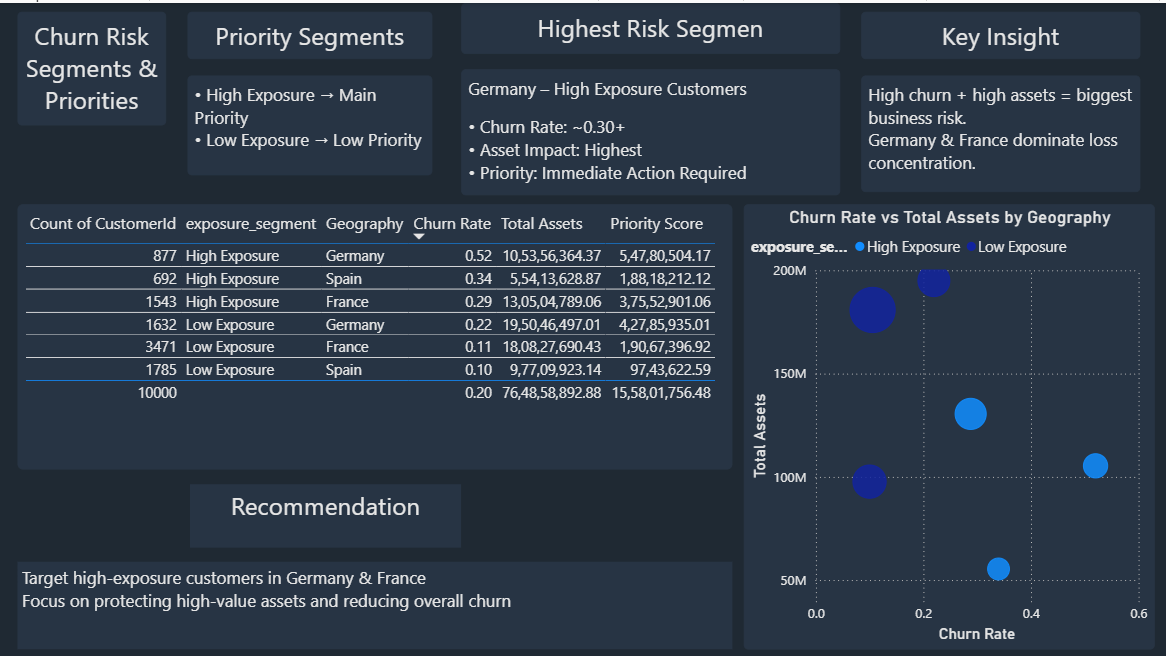

The dashboard page shown, as its layout file describes it:
{"tool":"powerbi","page":{"name":"Churn Risk Segments & Priorities 💥","canvas":[1280,720],"ordinal":2},"visuals":[{"type":"tableEx","fields":{"Values":["CountNonNull(churn.CustomerId)","churn_behavior_segment.exposure_segment","churn.Geography","churn.Churn Rate","churn.Total Assets","churn.Priority Score"]},"box":[13.7,489.9,780.8,219.6],"z":0},{"type":"scatterChart","title":"Churn Rate vs Total Assets by Geography","fields":{"X":["churn.Churn Rate"],"Y":["churn.Total Assets"],"Size":["CountNonNull(churn.CustomerId)"],"Series":["churn_behavior_segment.exposure_segment"],"Category":["churn.Geography"]},"box":[814.7,240.2,453.5,468.7],"z":1000},{"type":"textbox","box":[205.8,79.6,269,109.8],"z":2000},{"type":"textbox","box":[495.4,89.2,428.1,138.6],"z":3000},{"type":"textbox","box":[28.8,9.6,163.3,179.8],"z":4000},{"type":"textbox","box":[205.8,9.6,269,52.1],"z":5000},{"type":"textbox","box":[495.4,23.3,428.1,56.3],"z":6000},{"type":"textbox","box":[333.4,347.2,436.4,113.9],"z":7000},{"type":"textbox","box":[377.4,277.2,306,52.1],"z":8000},{"type":"textbox","box":[939,89,329.2,139.4],"z":9000},{"type":"textbox","box":[938.6,23.3,329.3,56.3],"z":10000},{"type":"pageNavigator","box":[13.7,204.5,269,285.4],"z":11000}]}

Visuals, with their boxes in screenshot pixels (x1, y1, x2, y2), scaled from the page's 1280x720 canvas onto the 1166x656 screenshot:
tableEx - CountNonNull(churn.CustomerId) x churn_behavior_segment.exposure_segment: 12, 446, 724, 646
"Churn Rate vs Total Assets by Geography" scatterChart: 742, 219, 1155, 646
textbox: 187, 73, 433, 173
textbox: 451, 81, 841, 208
textbox: 26, 9, 175, 173
textbox: 187, 9, 433, 56
textbox: 451, 21, 841, 73
textbox: 304, 316, 701, 420
textbox: 344, 253, 623, 300
textbox: 855, 81, 1155, 208
textbox: 855, 21, 1155, 73
pageNavigator: 12, 186, 258, 446
